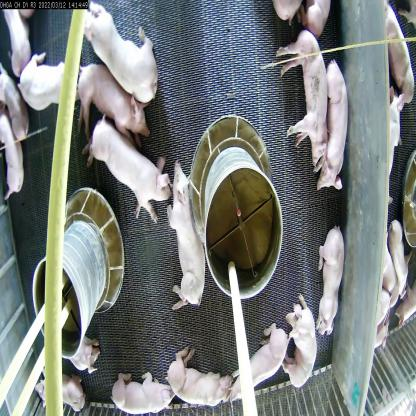Pig: (84, 107, 175, 226), (78, 1, 165, 104), (269, 29, 327, 173), (72, 57, 153, 148), (168, 158, 210, 316), (228, 314, 290, 405), (315, 55, 353, 193), (165, 346, 236, 410), (280, 292, 319, 392), (16, 48, 81, 107), (316, 222, 346, 346), (383, 2, 415, 112), (110, 368, 183, 415), (0, 108, 31, 204), (1, 6, 43, 76), (0, 64, 35, 139), (383, 80, 404, 205), (32, 368, 90, 413), (64, 331, 106, 378), (378, 237, 404, 310), (388, 216, 411, 298)
